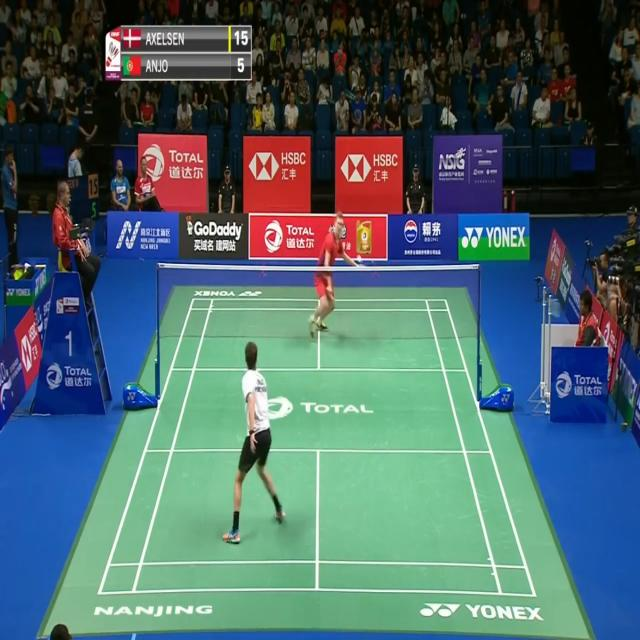Player1: (217, 338, 287, 556)
Player2: (309, 210, 359, 338)
